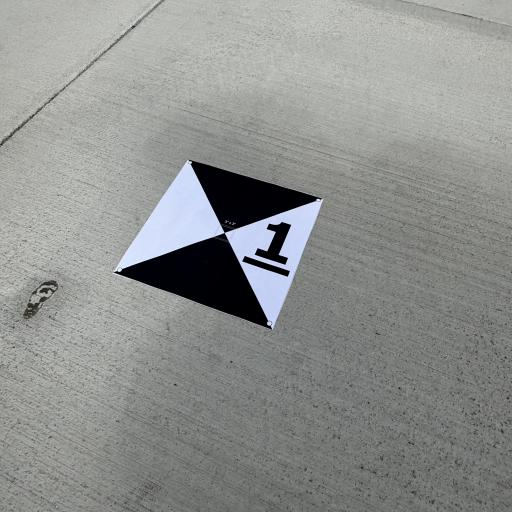target1: (111, 151, 333, 340)
